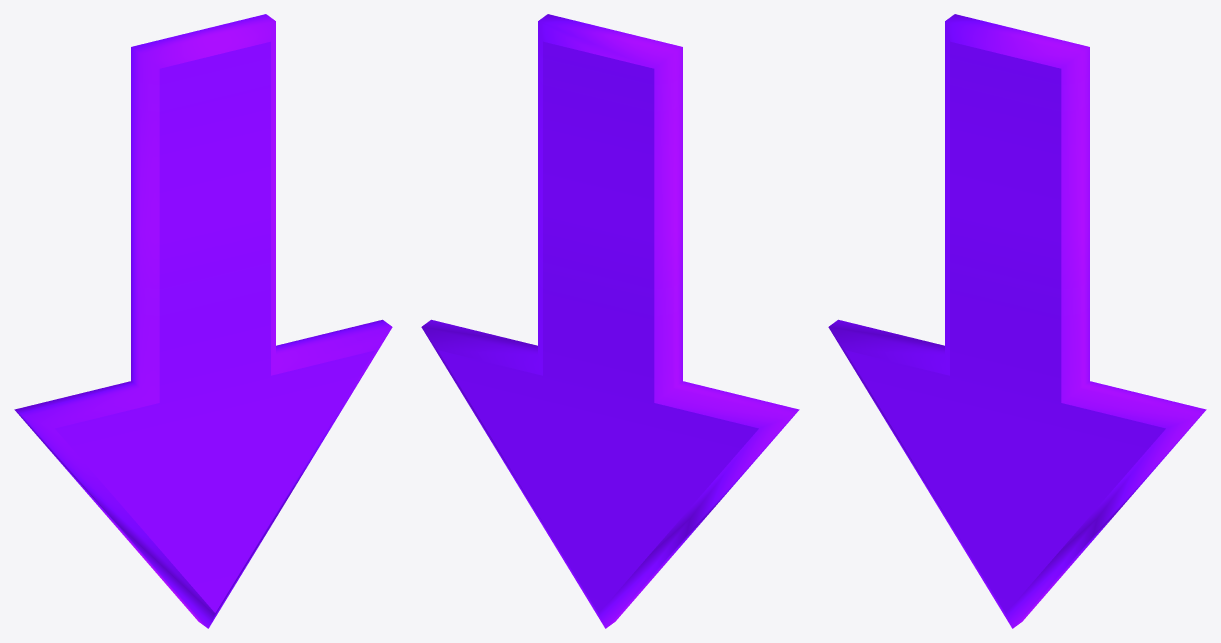
File: 11a8a2f8-459e-46a3-ba34-6fefe5401517.glb
3 views of the same model, side by side, from view 1: azimuth 30°, elevation 25°; view 2: azimuth 150°, elevation 25°; view 3: azimuth 330°, elevation 25° (orthographic).
Parts seen in each view (by area): view 1: IndicatorArrowDownPurple; view 2: IndicatorArrowDownPurple; view 3: IndicatorArrowDownPurple.
Part boxes in pixels (box(x1,y1,x2,y2)): IndicatorArrowDownPurple: box(14, 14, 392, 628); IndicatorArrowDownPurple: box(421, 14, 799, 628); IndicatorArrowDownPurple: box(828, 14, 1206, 628).
Size of the model in its own units: 0.45 by 0.69 by 0.05.
Materials: 1 (1 with a texture image).
